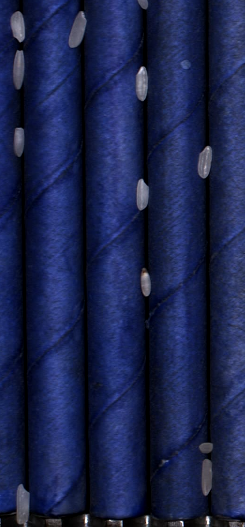complete_grain: (68, 9, 87, 55), (14, 484, 33, 527), (11, 46, 26, 93), (7, 9, 26, 45), (135, 175, 151, 214), (199, 457, 214, 496), (198, 146, 213, 183), (11, 125, 26, 159)
milky_grain: (135, 64, 149, 106), (139, 268, 152, 301)
